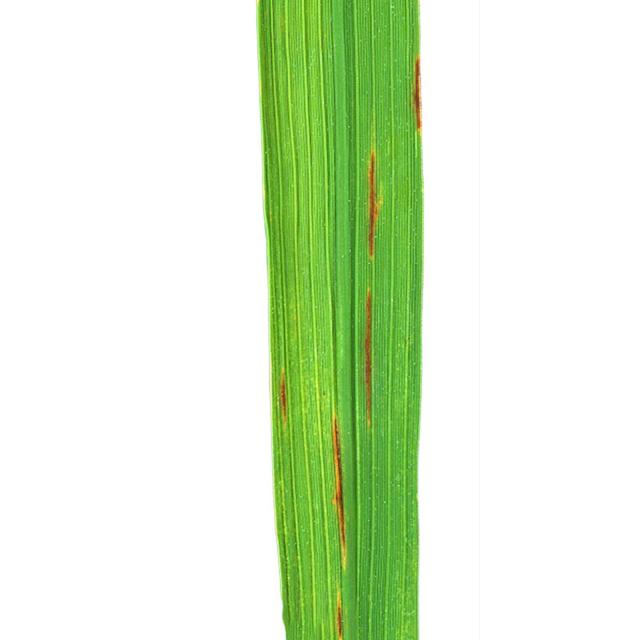Narrow brown: (240, 0, 454, 640)
